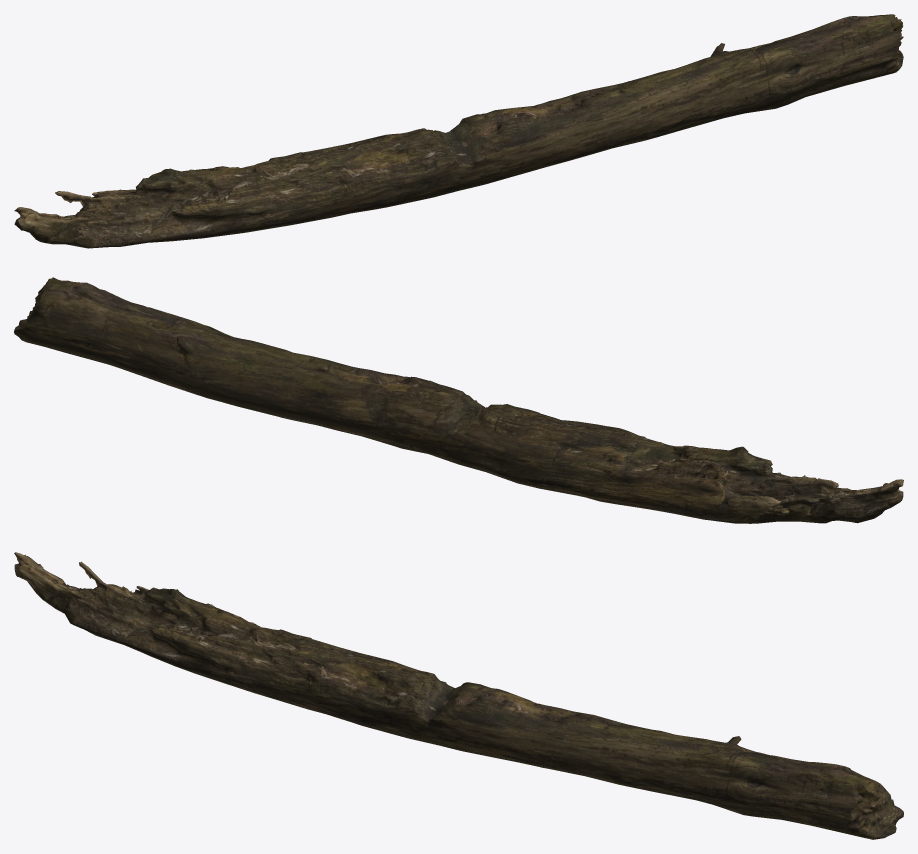
The model's file is dead_tree_trunk.glb.
The picture shows the model from 3 angles, top to bottom: view 1: azimuth 30°, elevation 25°; view 2: azimuth 150°, elevation 25°; view 3: azimuth 330°, elevation 25°; orthographic projection.
Parts seen in each view (by area): view 1: dead_tree_trunk; view 2: dead_tree_trunk; view 3: dead_tree_trunk.
Part boxes in pixels (box(x1,y1,x2,y2)): dead_tree_trunk: box(14, 14, 903, 248); dead_tree_trunk: box(14, 277, 903, 523); dead_tree_trunk: box(14, 552, 903, 839).
Size of the model in its own units: 3.05 by 0.2905 by 0.2771.
Materials: 1 (1 with a texture image).
